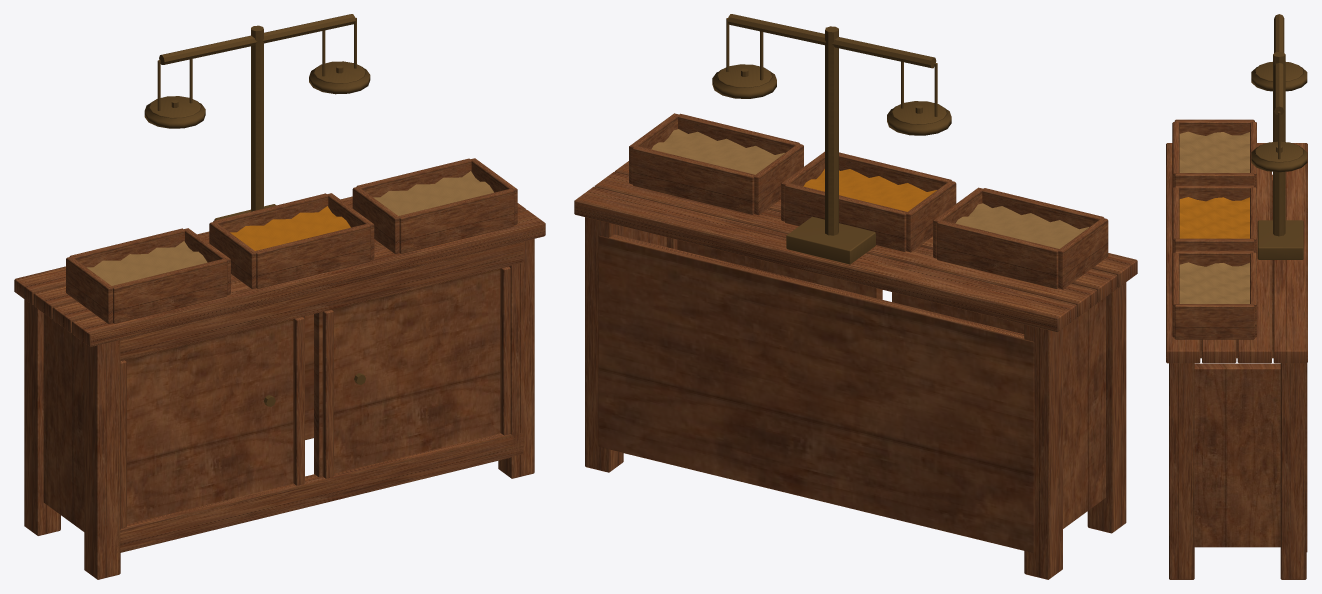
The model's file is grain-balance.glb.
3 renders of one model, left to right at view 1: azimuth 30°, elevation 25°; view 2: azimuth 150°, elevation 25°; view 3: azimuth 270°, elevation 25°, orthographic. The views are drawn at different scales.
Parts seen in each view (by area): view 1: grain-balance; view 2: grain-balance; view 3: grain-balance.
Part boxes in pixels (left/top/right/bottom): grain-balance: left=14, top=14, right=545, bottom=579; grain-balance: left=574, top=14, right=1137, bottom=579; grain-balance: left=1166, top=14, right=1307, bottom=579.
Bounding box in the file's own units: 1.72 × 1.64 × 0.495.
1 material, 1 textured.
